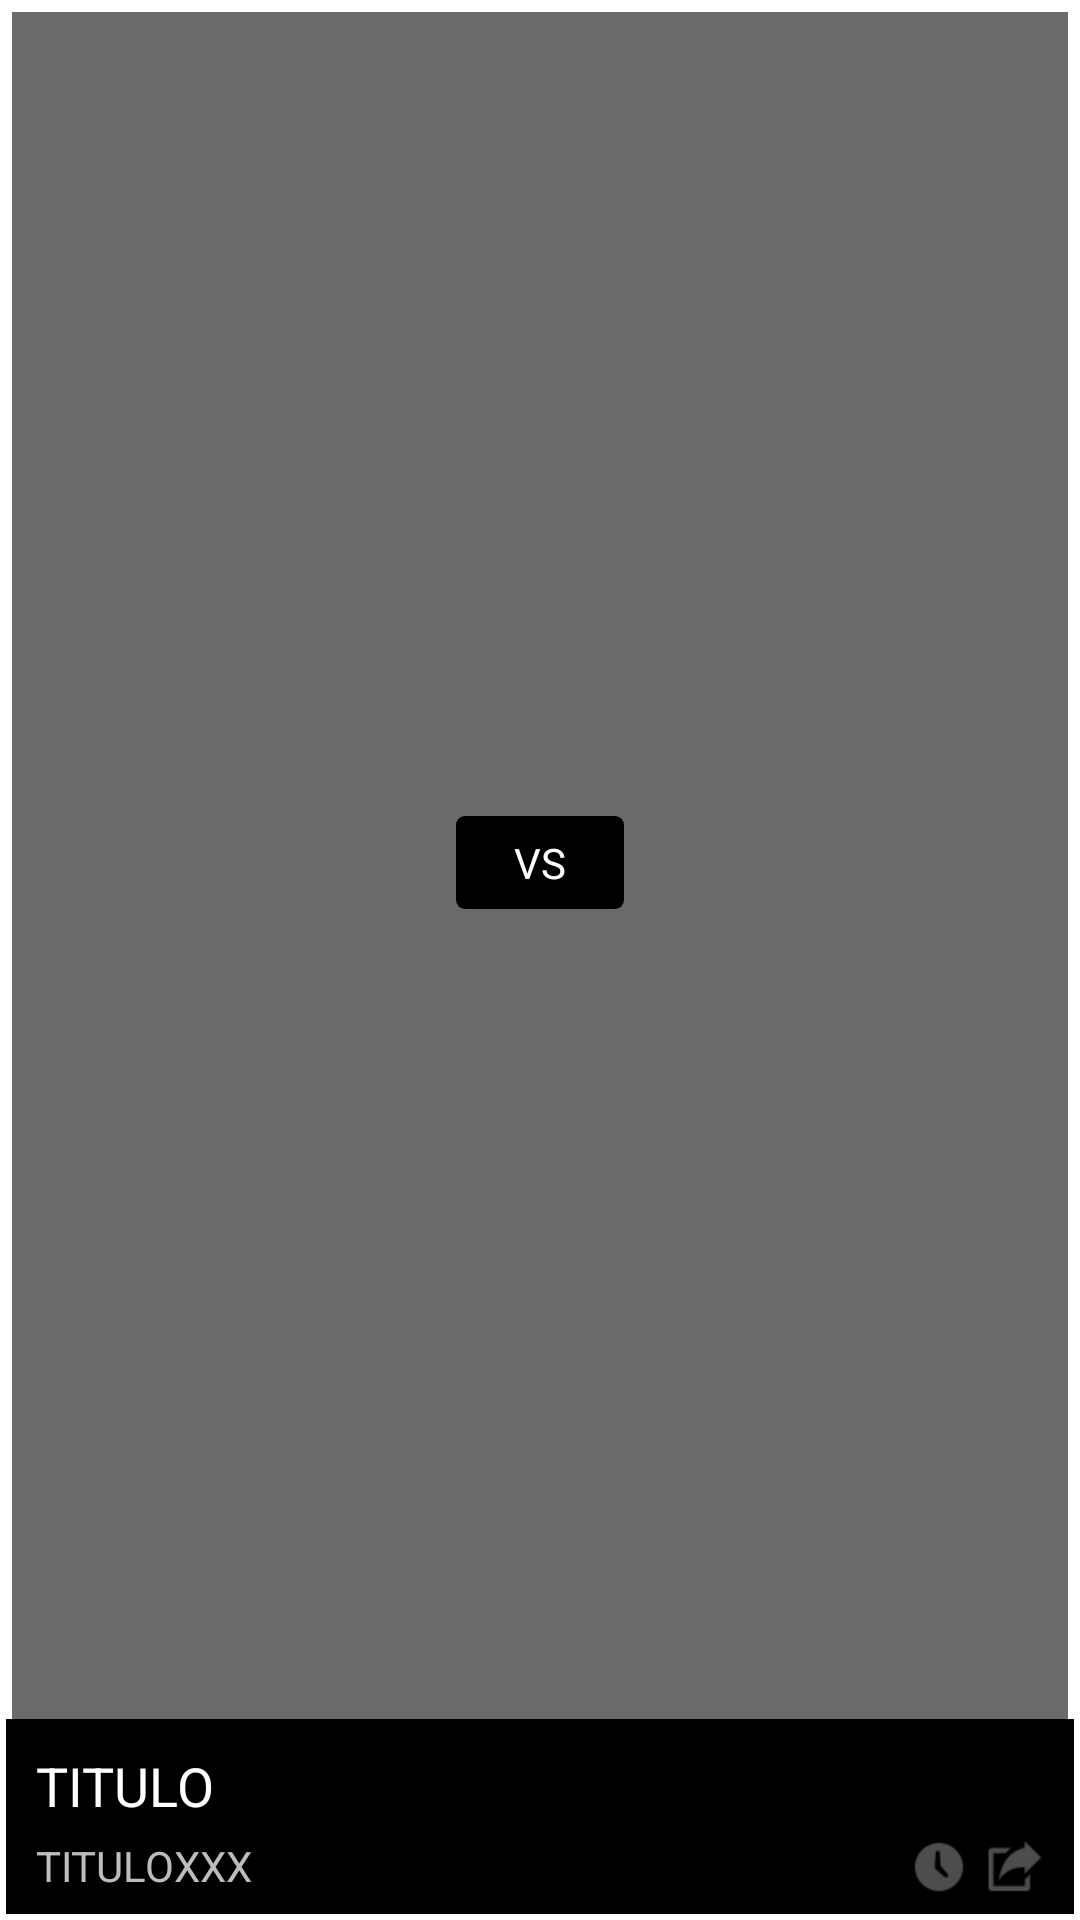

Locate icon controls on the screen. Image size 1080 × 1920, boxes as [x1=x1, y1=y1, x2=x2, y2=y2].
reminder: [x1=915, y1=1843, x2=963, y2=1891]
share: [x1=988, y1=1842, x2=1041, y2=1891]
